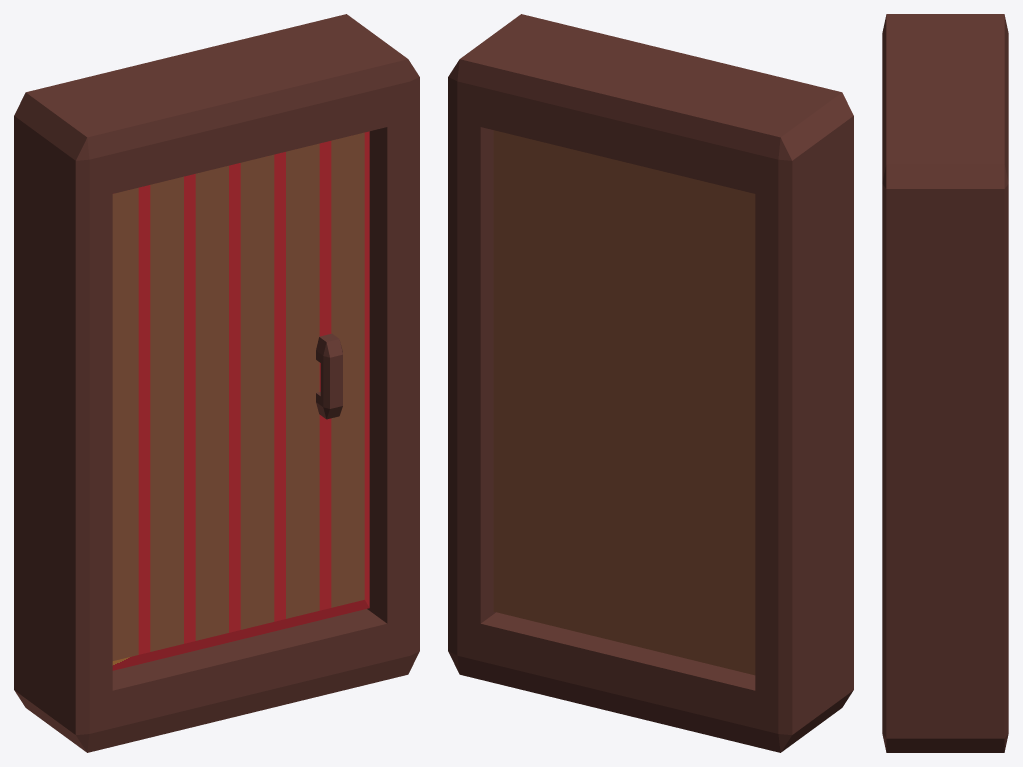
The model's file is door.obj.
3 renders of one model, left to right at view 1: azimuth 30°, elevation 25°; view 2: azimuth 150°, elevation 25°; view 3: azimuth 270°, elevation 25°, orthographic. The views are drawn at different scales.
Visible parts, largest first — view 1: Cube.006_Cube.052, DORE.001_Cube.050, HAND.002_Cube.051; view 2: Cube.006_Cube.052, DORE.001_Cube.050; view 3: Cube.006_Cube.052.
Part boxes in pixels (x1=…): Cube.006_Cube.052: x1=14, y1=14, x2=419, y2=752; DORE.001_Cube.050: x1=112, y1=131, x2=369, y2=670; HAND.002_Cube.051: x1=316, y1=333, x2=342, y2=419; Cube.006_Cube.052: x1=448, y1=14, x2=853, y2=752; DORE.001_Cube.050: x1=493, y1=130, x2=755, y2=675; Cube.006_Cube.052: x1=882, y1=14, x2=1008, y2=752.
Size of the model in its own units: 1.06 by 1.81 by 0.352.
